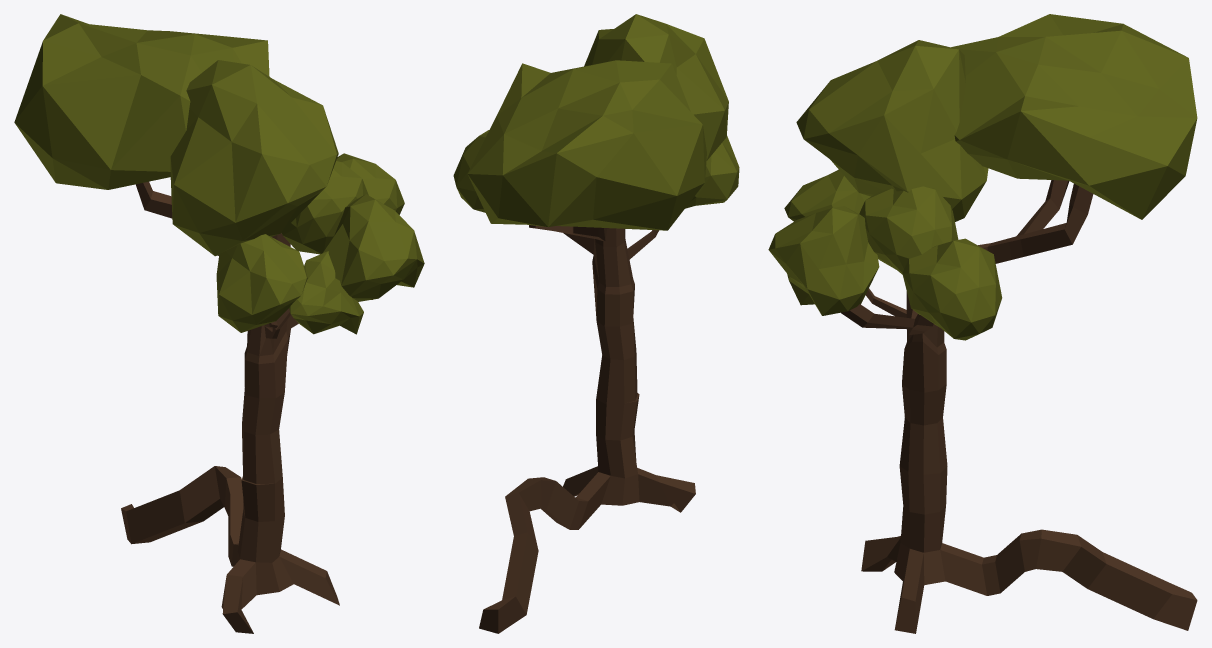
File: jungletree.glb
The picture shows the model from 3 angles, left to right: view 1: azimuth 30°, elevation 25°; view 2: azimuth 150°, elevation 25°; view 3: azimuth 270°, elevation 25°; orthographic projection. The views are drawn at different scales.
Parts seen in each view (by area): view 1: Trunk; view 2: Trunk; view 3: Trunk.
Part boxes in pixels (x1=…): Trunk: x1=14, y1=14, x2=424, y2=633; Trunk: x1=453, y1=14, x2=739, y2=633; Trunk: x1=768, y1=14, x2=1197, y2=633.
Bounding box in the file's own units: 108 × 192 × 131.
